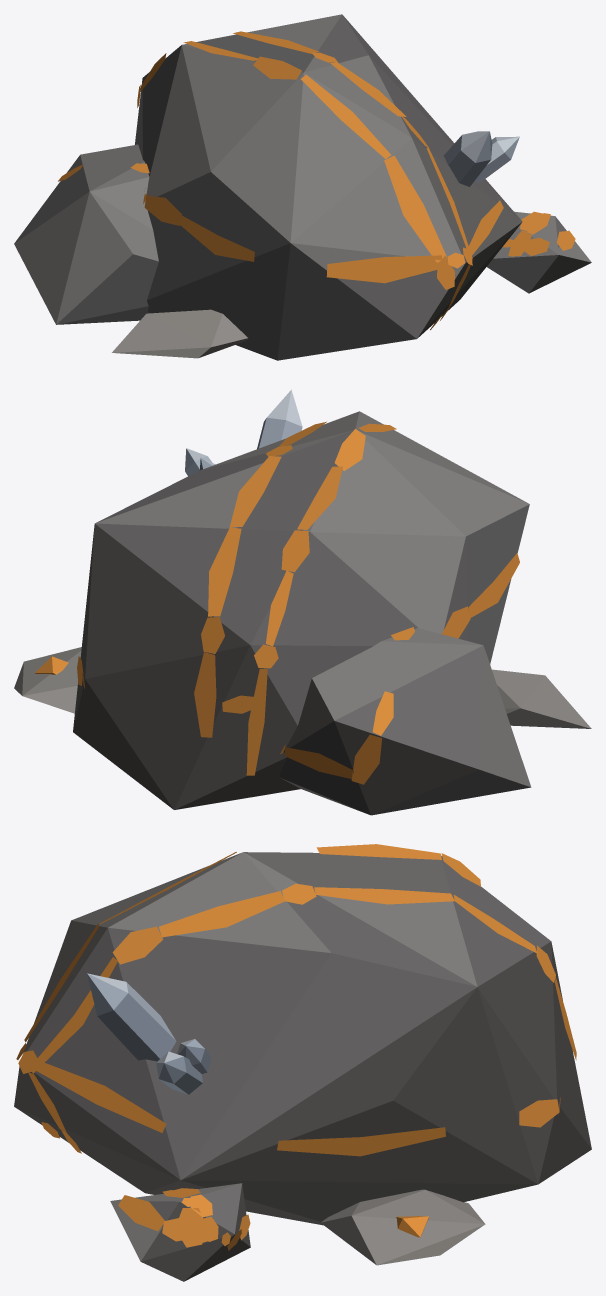
The model's file is rock_lava_0.glb.
3 renders of one model, top to bottom at view 1: azimuth 30°, elevation 25°; view 2: azimuth 150°, elevation 25°; view 3: azimuth 270°, elevation 25°, orthographic. The views are drawn at different scales.
Parts seen in each view (by area): view 1: Body; view 2: Body; view 3: Body.
Boxes of the visible parts, x1=… form: Body: x1=14, y1=14, x2=591, y2=360; Body: x1=14, y1=389, x2=591, y2=815; Body: x1=14, y1=844, x2=591, y2=1281.
Size of the model in its own units: 3.73 by 1.9 by 3.45.
